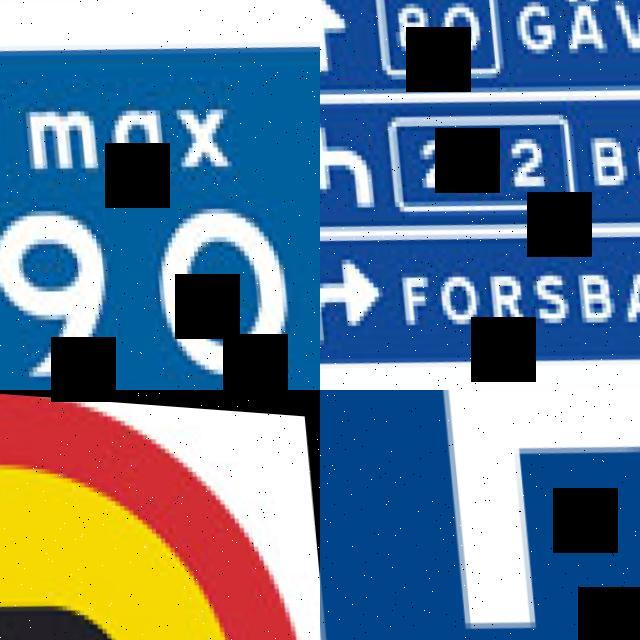Advance direction sign exit ahead from other road than motorway or expressway: (320, 0, 640, 390)
Parking: (320, 390, 640, 640)
no turning left: (0, 390, 320, 640)
speed limit-90: (0, 0, 320, 390)
